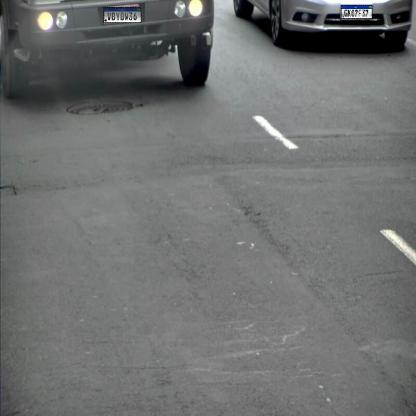PlacaM: (104, 7, 142, 23), (341, 5, 372, 19)
